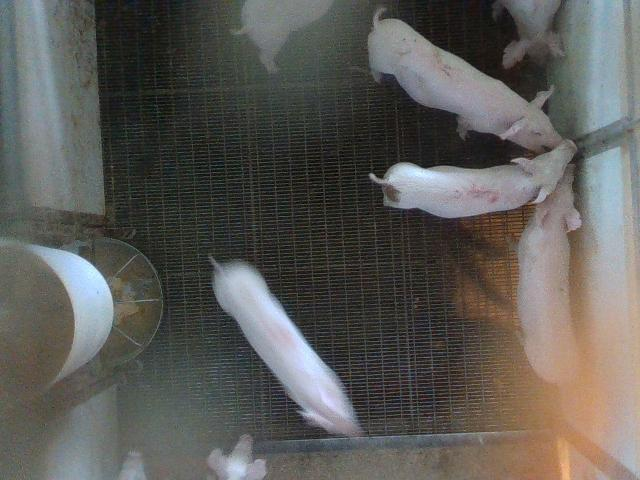pig-4: (211, 258, 362, 436)
pig-5: (369, 140, 575, 218)
